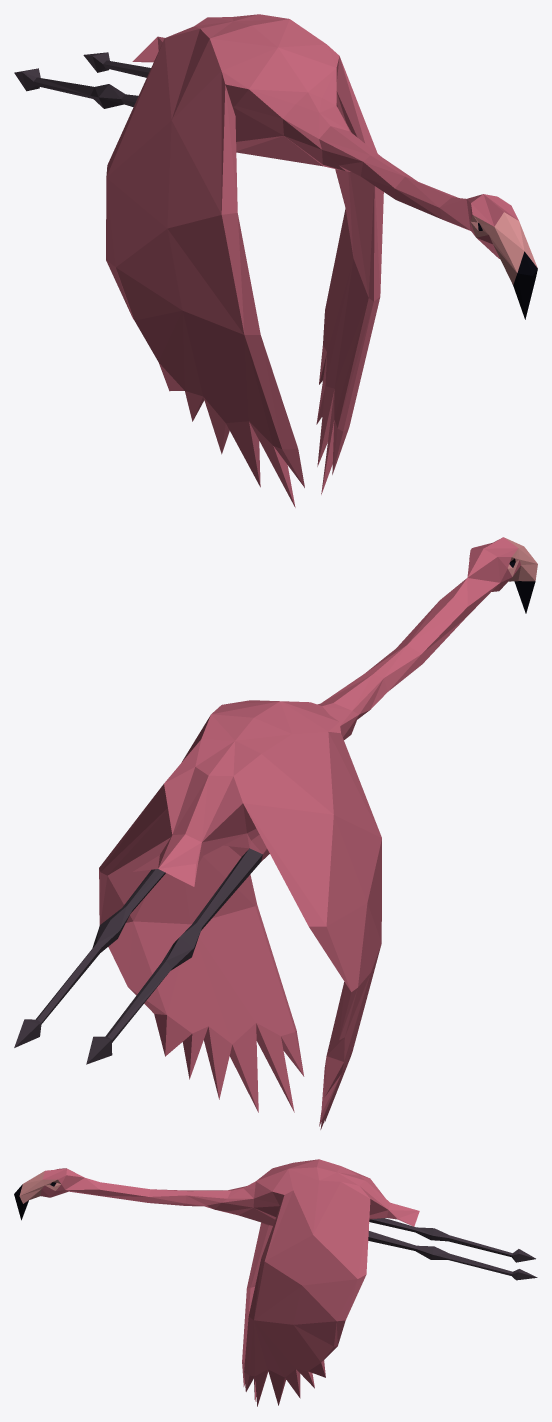
The model's file is flamingo.fbx.
3 views of the same model, one above another, from view 1: azimuth 30°, elevation 25°; view 2: azimuth 150°, elevation 25°; view 3: azimuth 270°, elevation 25° (orthographic). The views are drawn at different scales.
Parts seen in each view (by area): view 1: Object_0; view 2: Object_0; view 3: Object_0.
Boxes of the visible parts, box(x1,y1,x2,y2) form: Object_0: box(14, 14, 537, 507); Object_0: box(14, 537, 537, 1129); Object_0: box(14, 1159, 537, 1406).
Bounding box in the file's own units: 157 × 267 × 530.
